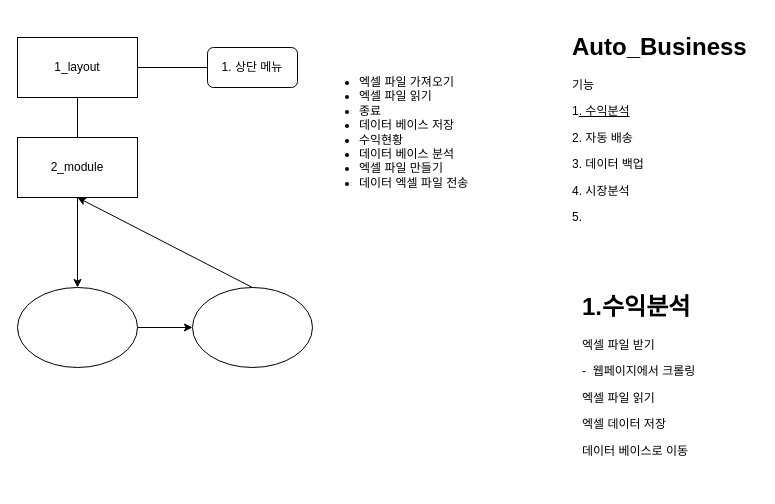
Image size: 775x504. Some labels were removed from this diagram. Here are the shapes that lost their labels. From the top down, the centre of each, then its label:
point (77, 327): input
point (252, 327): output
